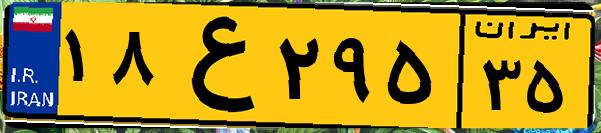1: (57, 26, 110, 100)
2: (270, 28, 330, 110)
3: (475, 38, 525, 113)
5: (385, 28, 445, 110), (525, 38, 570, 115)
8: (110, 28, 158, 98)
9: (330, 28, 385, 110)
ع: (158, 12, 270, 120)
